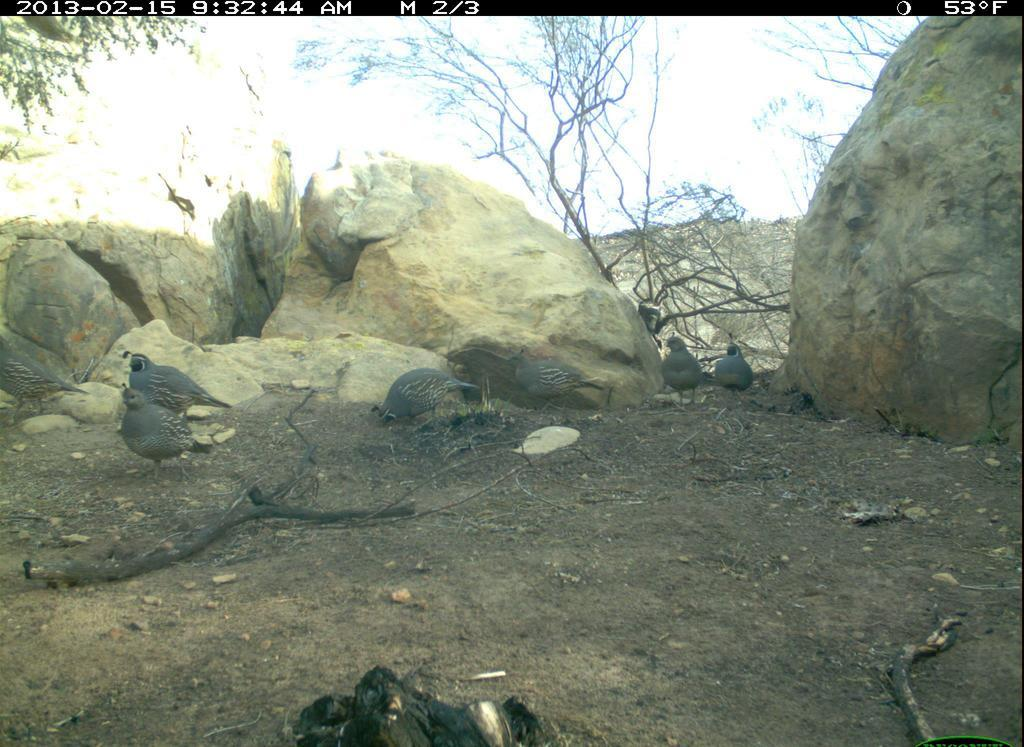bird: (2, 332, 95, 431)
